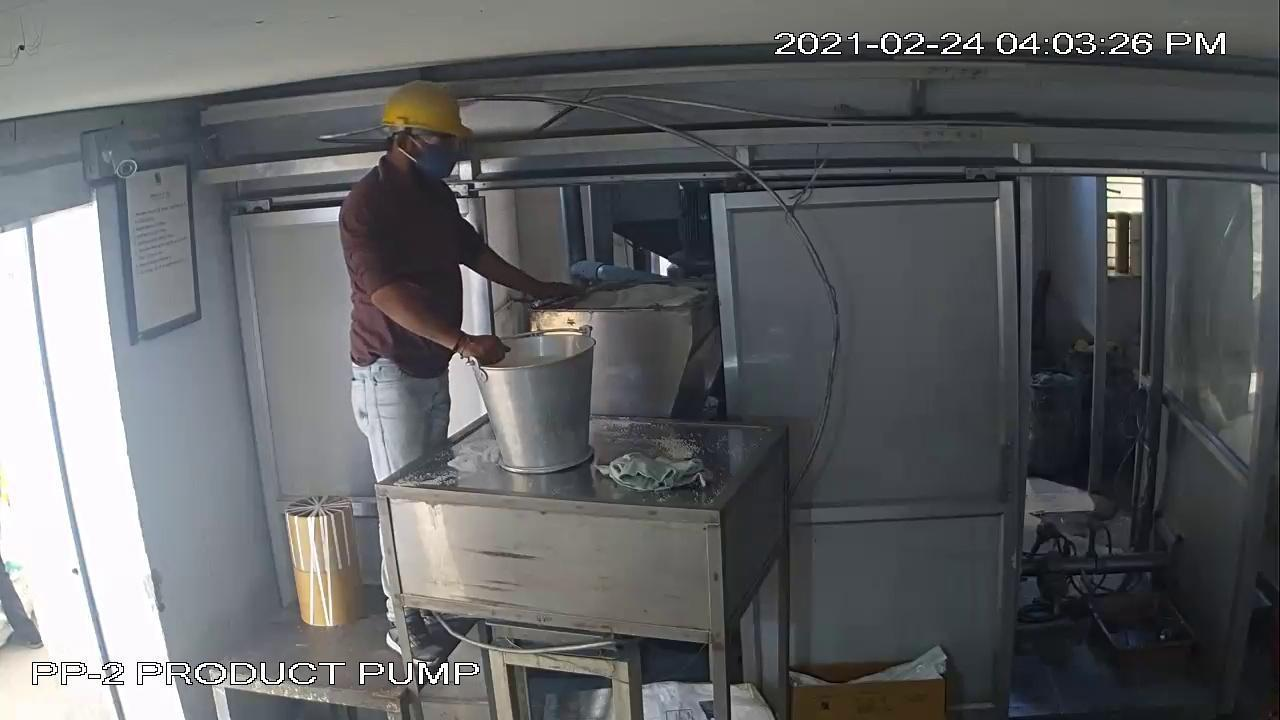helmet: (376, 80, 485, 141)
